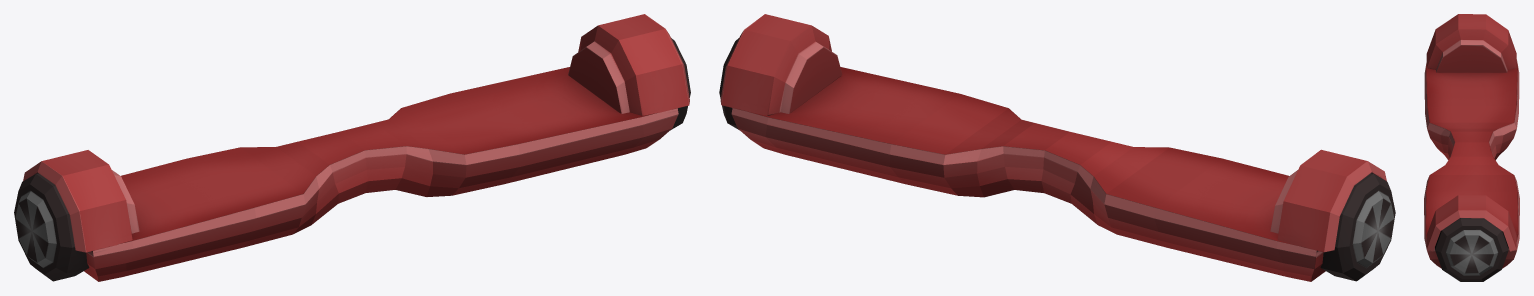
File: Hover board.glb
3 views of the same model, side by side, from view 1: azimuth 30°, elevation 25°; view 2: azimuth 150°, elevation 25°; view 3: azimuth 270°, elevation 25° (orthographic). The views are drawn at different scales.
Parts seen in each view (by area): view 1: Hoverboard_mesh; view 2: Hoverboard_mesh; view 3: Hoverboard_mesh.
Part boxes in pixels (x1,y1,x2,y2): Hoverboard_mesh: (14, 14, 690, 281); Hoverboard_mesh: (719, 14, 1395, 281); Hoverboard_mesh: (1424, 14, 1519, 281).
Bounding box in the file's own units: 15.2 × 2.38 × 2.95.
1 material, 1 textured.
